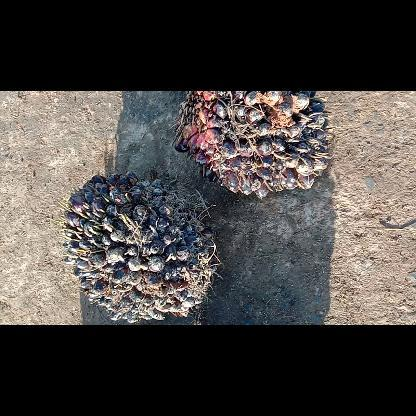TBS mentah: (56, 172, 219, 324), (169, 91, 336, 201)
